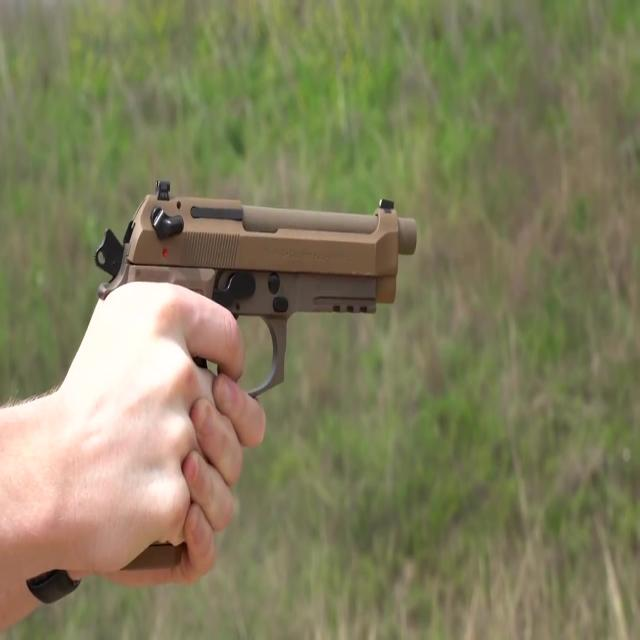Weapon: (67, 151, 450, 621)
